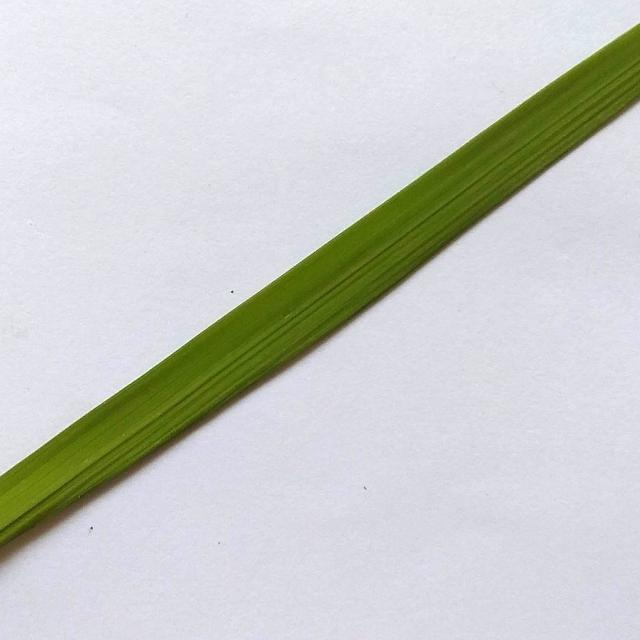Rice_Healthy: (0, 25, 640, 544)
